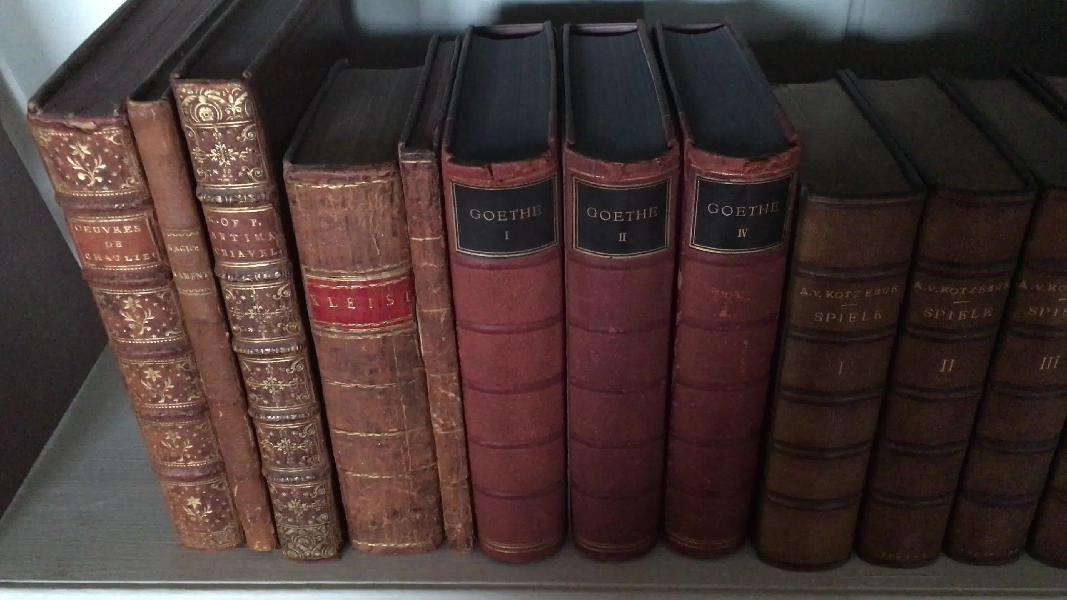Aa6-10: (401, 146, 478, 550)
Aa6-11_13: (432, 156, 801, 564)
Aa6-14_17: (746, 187, 1067, 569)
Aa6-6: (11, 110, 245, 558)
Aa6-7: (121, 94, 284, 564)
Aa6-8: (170, 79, 353, 562)
Aa6-9: (270, 159, 449, 560)
